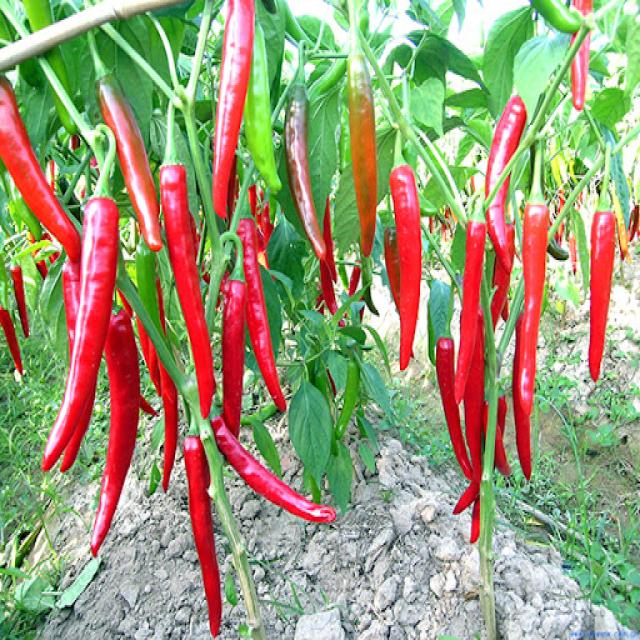chili: (42, 198, 120, 471), (0, 77, 81, 261), (160, 165, 215, 418), (211, 415, 336, 522), (91, 310, 139, 556), (96, 73, 162, 251), (212, 0, 255, 218), (238, 218, 286, 411), (348, 0, 378, 256), (184, 437, 221, 637), (285, 82, 326, 259), (390, 163, 421, 369), (519, 203, 549, 414), (455, 220, 484, 402), (436, 337, 472, 480), (589, 210, 616, 381), (222, 280, 248, 437), (486, 95, 526, 196), (464, 308, 485, 484), (159, 363, 178, 492), (486, 178, 510, 272), (0, 305, 24, 375), (11, 266, 29, 338)
